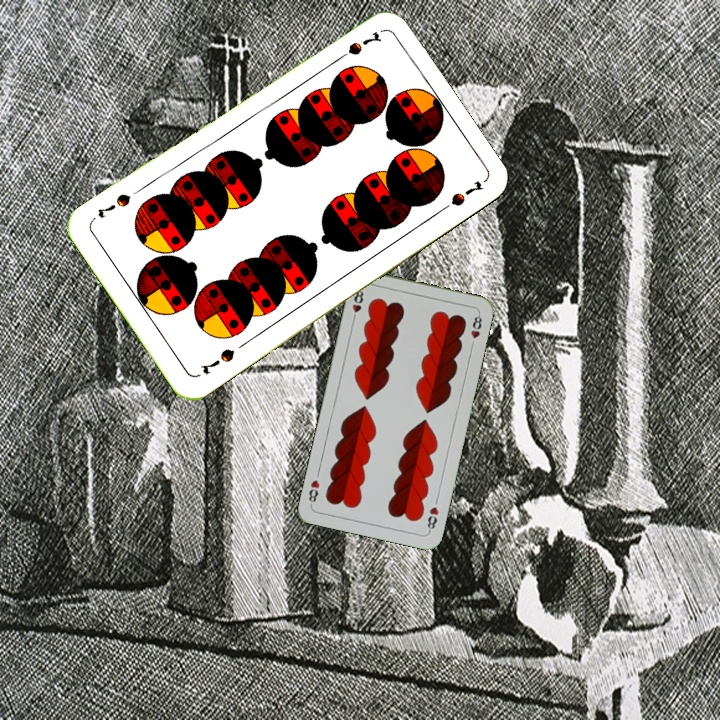H8: (348, 284, 366, 324), (423, 502, 441, 534)
S7: (330, 27, 384, 65), (196, 344, 237, 377)
